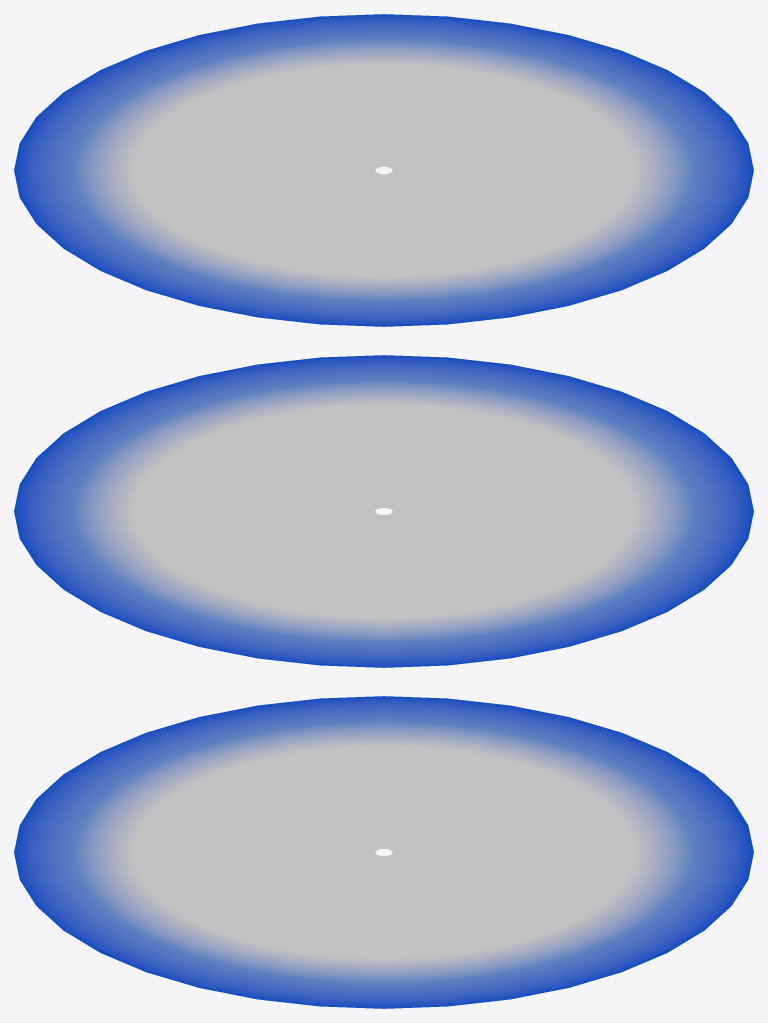
Rendered from yuanpan.FBX.
3 renders of one model, top to bottom at view 1: azimuth 30°, elevation 25°; view 2: azimuth 150°, elevation 25°; view 3: azimuth 270°, elevation 25°, orthographic.
Parts seen in each view (by area): view 1: yuanpan; view 2: yuanpan; view 3: yuanpan.
Boxes of the visible parts, x1,y1,x2,y2 form: yuanpan: (14, 14, 753, 326); yuanpan: (14, 355, 753, 667); yuanpan: (14, 696, 753, 1008).
Size of the model in its own units: 19.32 by 1.22e-15 by 19.32.
